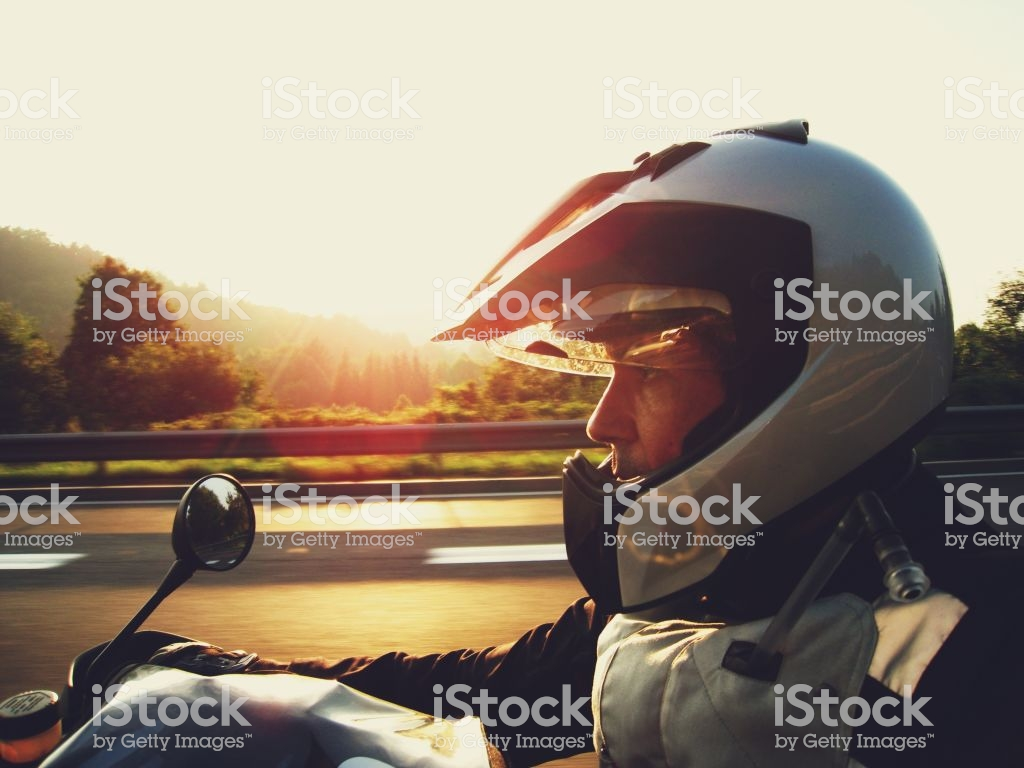helmet: (540, 145, 955, 528)
